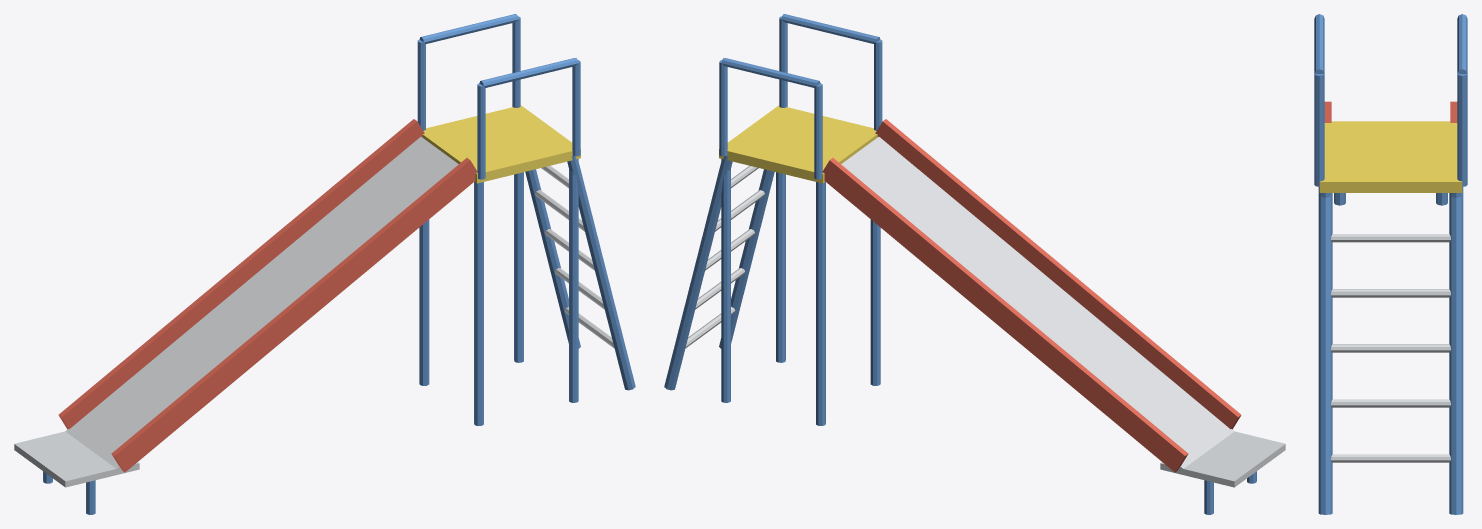
File: slide.glb
The picture shows the model from 3 angles, left to right: view 1: azimuth 30°, elevation 25°; view 2: azimuth 150°, elevation 25°; view 3: azimuth 270°, elevation 25°; orthographic projection. The views are drawn at different scales.
Parts seen in each view (by area): view 1: Slide; view 2: Slide; view 3: Slide.
Boxes of the visible parts, x1,y1,x2,y2 form: Slide: (14, 14, 635, 514); Slide: (664, 14, 1285, 514); Slide: (1314, 14, 1467, 514).
Bounding box in the file's own units: 3.83 × 2.23 × 0.75.
